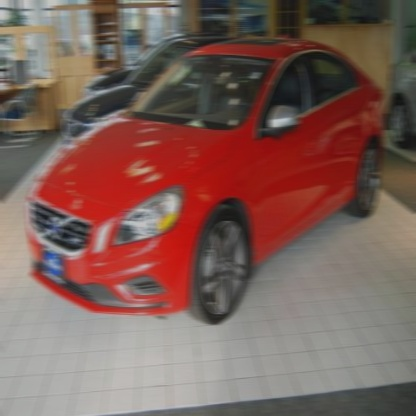Vehicle: (28, 38, 385, 328)
